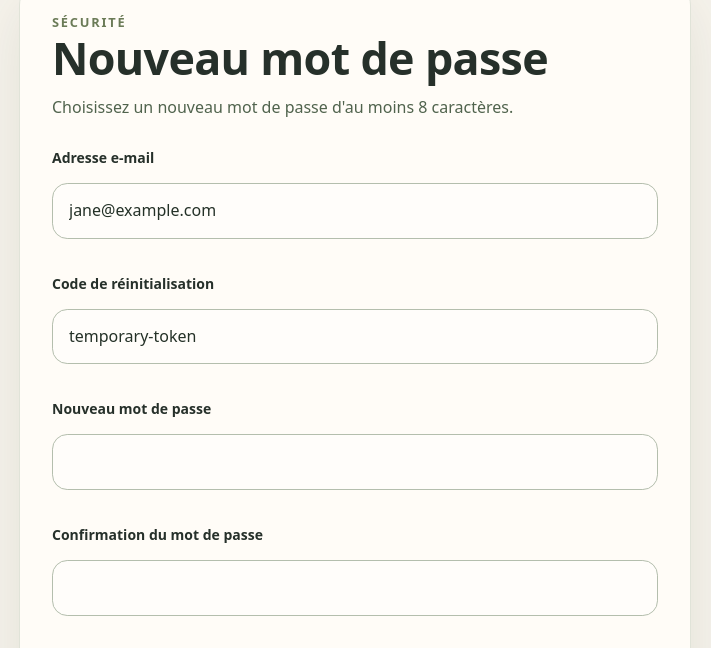
ResetPasswordView › prefills the reset data, submits the new password and shows success
Expected: the field with id "email-input" holds "jane@example.com", [52, 183, 658, 239]
Expected: the field with id "token-input" holds "temporary-token", [52, 309, 658, 364]
Type "new-password123" into the password field labelled "Nouveau mot de passe" at (355, 462), box [52, 434, 658, 490]
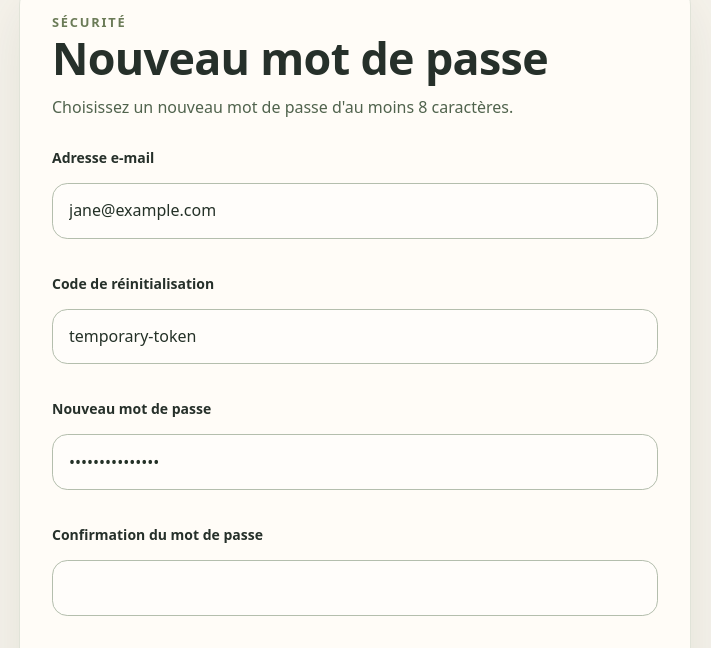
Type "new-password123" into the password field labelled "Confirmation du mot de passe" at (355, 588), box [52, 560, 658, 616]
(page scrolled)
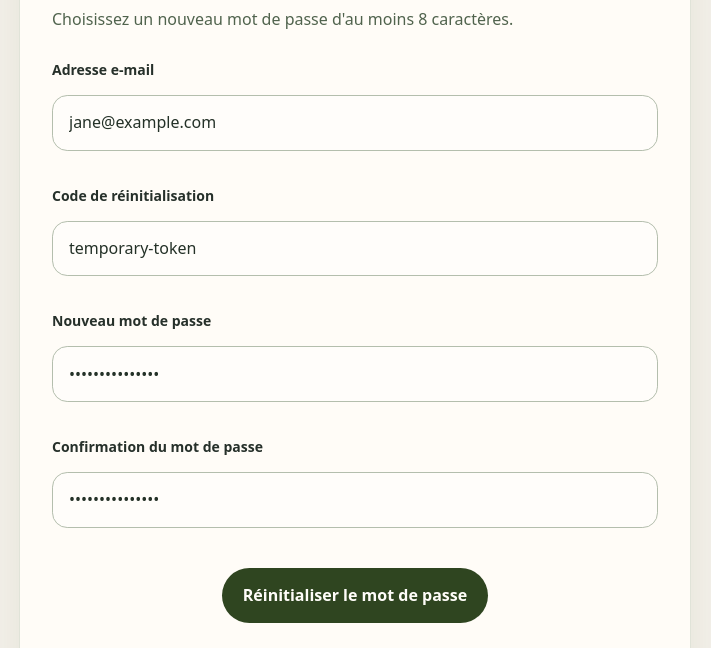
Submit the form
(page scrolled)
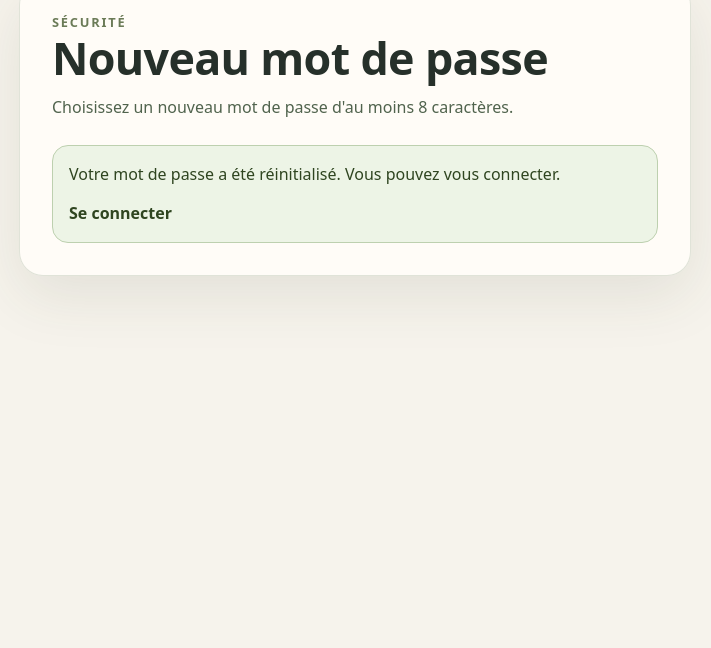
Result: the message shows "réinitialisé" at [69, 163, 560, 185]
